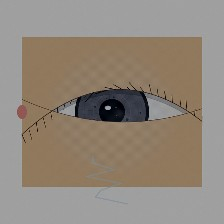foreign_body_visible: (76, 125, 117, 157)
